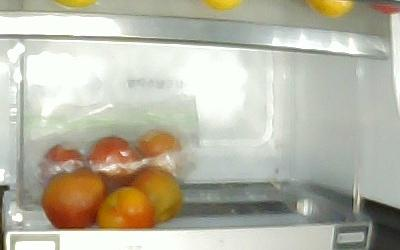prune: (40, 164, 107, 229), (127, 166, 182, 223), (94, 184, 156, 230)
prune_vinyl: (85, 134, 141, 181), (37, 141, 85, 191), (133, 127, 183, 161)
